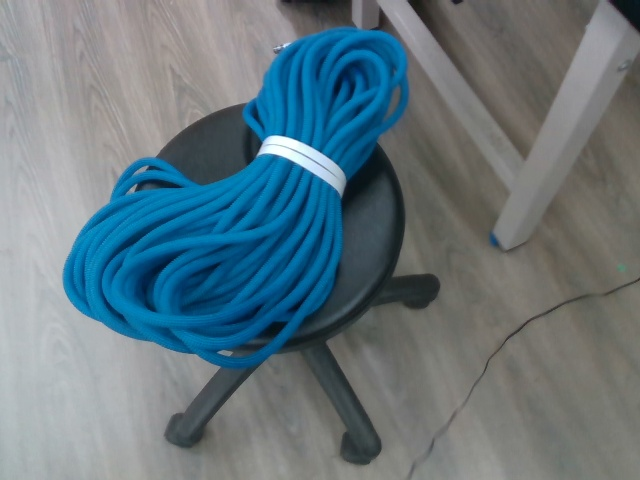rope: (55, 23, 415, 377)
